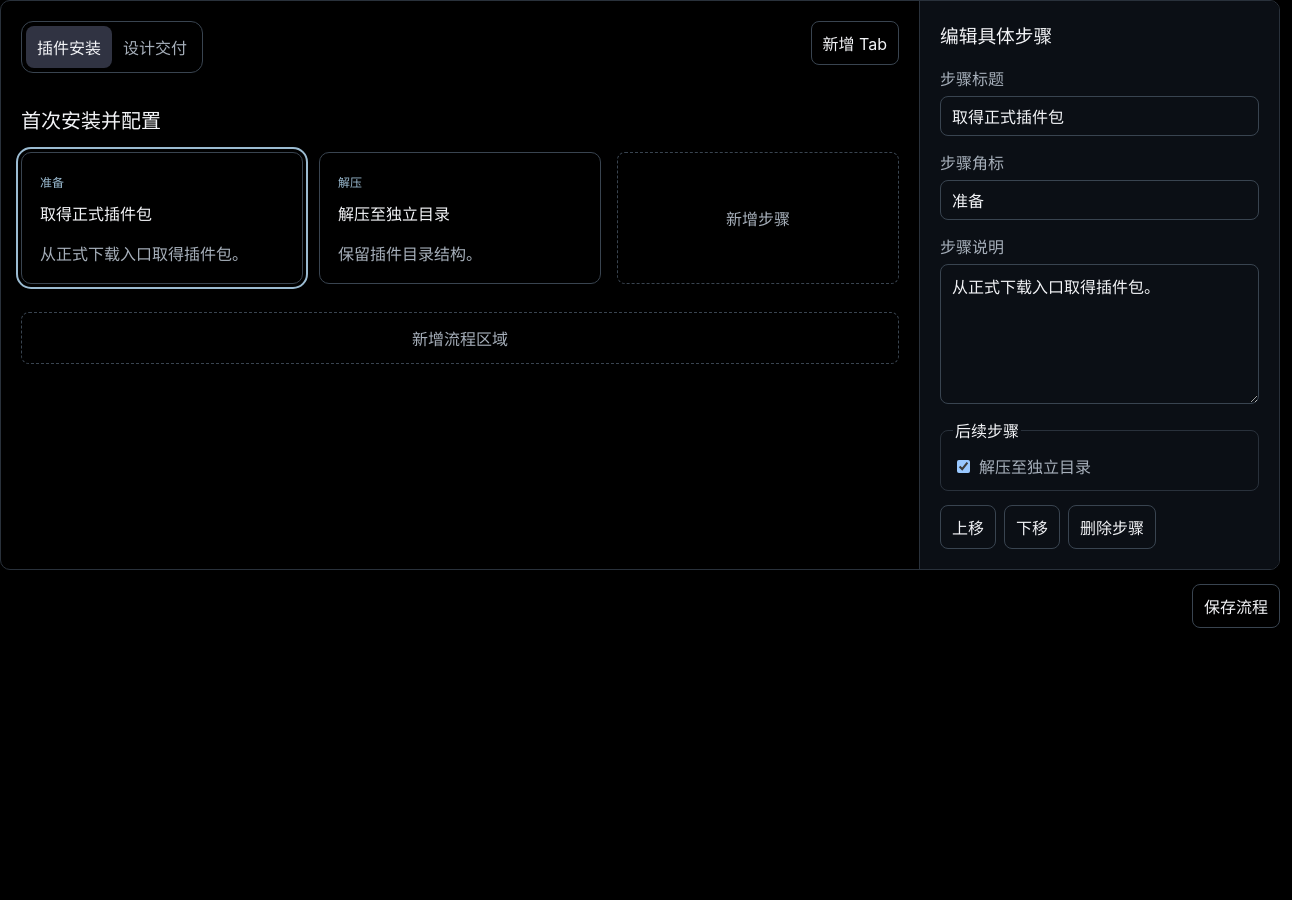
WorkflowEditor › falls back from an emptied section to its parent Tab
This screenshot has width=1292, height=900.
Click the button "首次安装并配置".
click(91, 120)  # box [21,101,161,138]
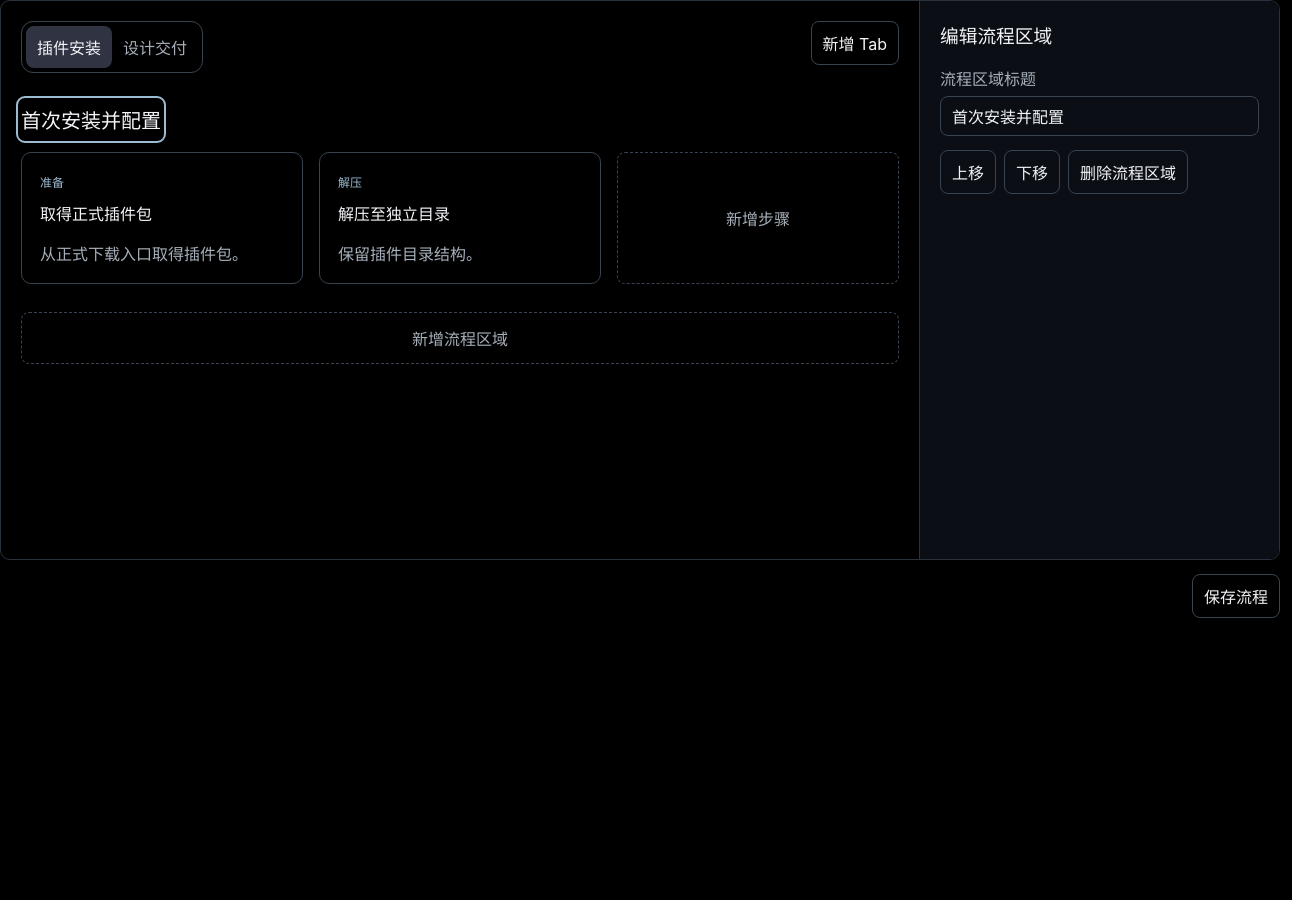
Click the button "删除流程区域".
click(1128, 172)  # box [1068,150,1188,194]
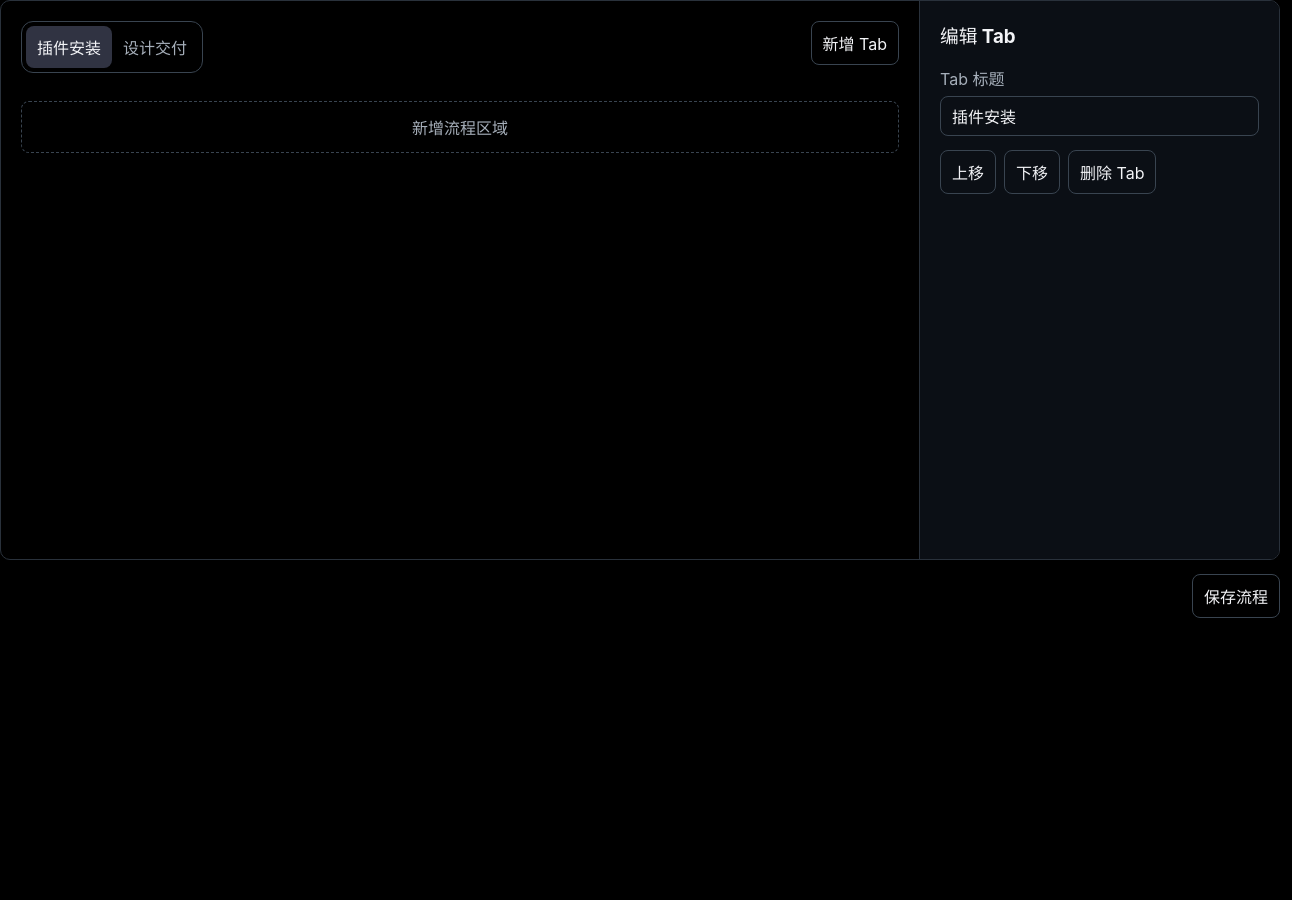
expect the heading "编辑 Tab" is shown: met, box [940,25,1016,48]
expect the field labelled "Tab 标题" holds "插件安装": met, box [940,96,1259,136]
